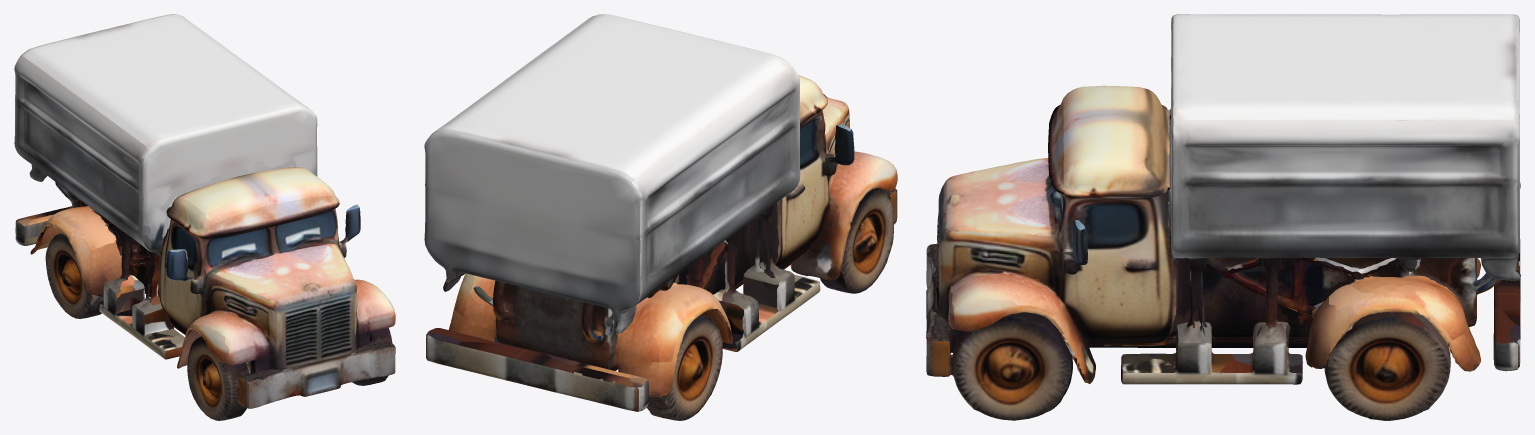
Rendered from camion_basura.glb.
3 views of the same model, side by side, from view 1: azimuth 30°, elevation 25°; view 2: azimuth 150°, elevation 25°; view 3: azimuth 270°, elevation 25° (orthographic). The views are drawn at different scales.
Visible parts, largest first — view 1: tmpkz6lih0q.ply; view 2: tmpkz6lih0q.ply; view 3: tmpkz6lih0q.ply.
Boxes of the visible parts, x1=… form: tmpkz6lih0q.ply: x1=14, y1=14, x2=395, y2=420; tmpkz6lih0q.ply: x1=424, y1=14, x2=897, y2=420; tmpkz6lih0q.ply: x1=926, y1=14, x2=1520, y2=420.
Bounding box in the file's own units: 0.4948 × 0.5672 × 0.9882.
Materials: 1 (1 with a texture image).
